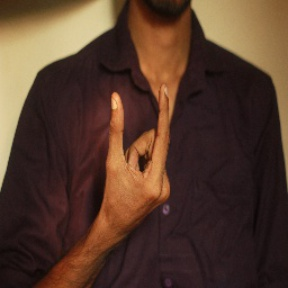U: (97, 79, 179, 224)
